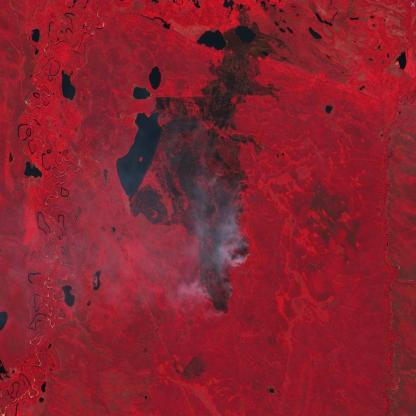fire: (216, 202, 253, 318)
